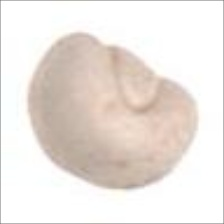L5: (103, 43, 174, 116), (39, 138, 118, 190)
L6: (21, 28, 201, 196)
